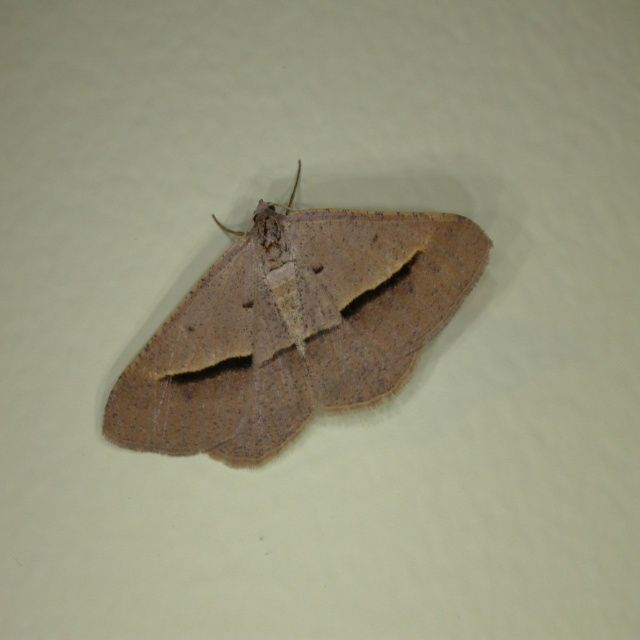Moths and butterflies: (100, 157, 494, 474)
